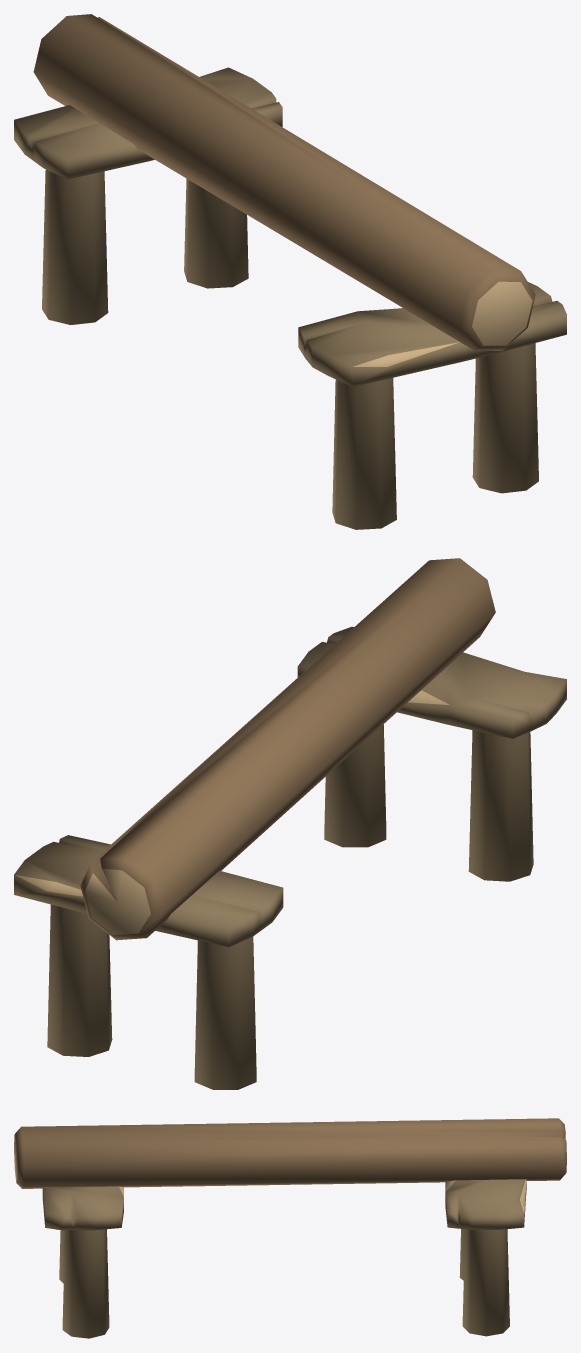
Rendered from rpgpp_ag_carpenter_workbench_02.fbx.
3 views of the same model, one above another, from view 1: azimuth 30°, elevation 25°; view 2: azimuth 150°, elevation 25°; view 3: azimuth 270°, elevation 25° (orthographic). The views are drawn at different scales.
Visible parts, largest first — view 1: rpgpp_ag_carpenter_workbench_02; view 2: rpgpp_ag_carpenter_workbench_02; view 3: rpgpp_ag_carpenter_workbench_02.
Part boxes in pixels (box(x1,y1,x2,y2)): rpgpp_ag_carpenter_workbench_02: box(14, 14, 566, 529); rpgpp_ag_carpenter_workbench_02: box(14, 558, 566, 1089); rpgpp_ag_carpenter_workbench_02: box(14, 1118, 566, 1338).
Size of the model in its own units: 0.9499 by 1.01 by 2.77.
